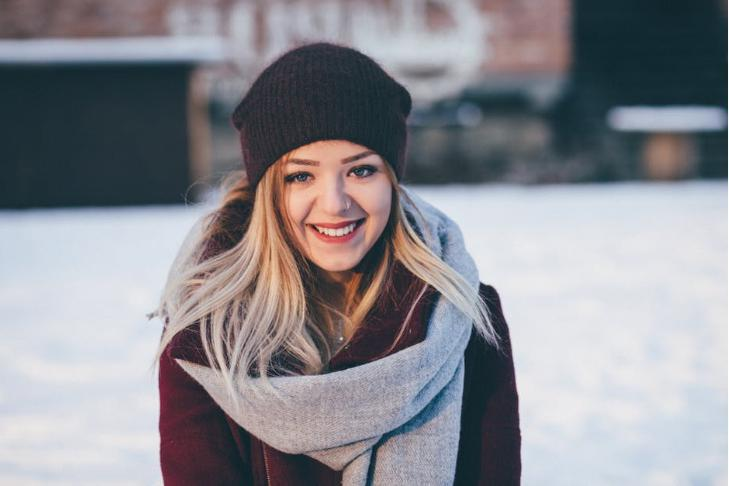face: (276, 139, 394, 275)
